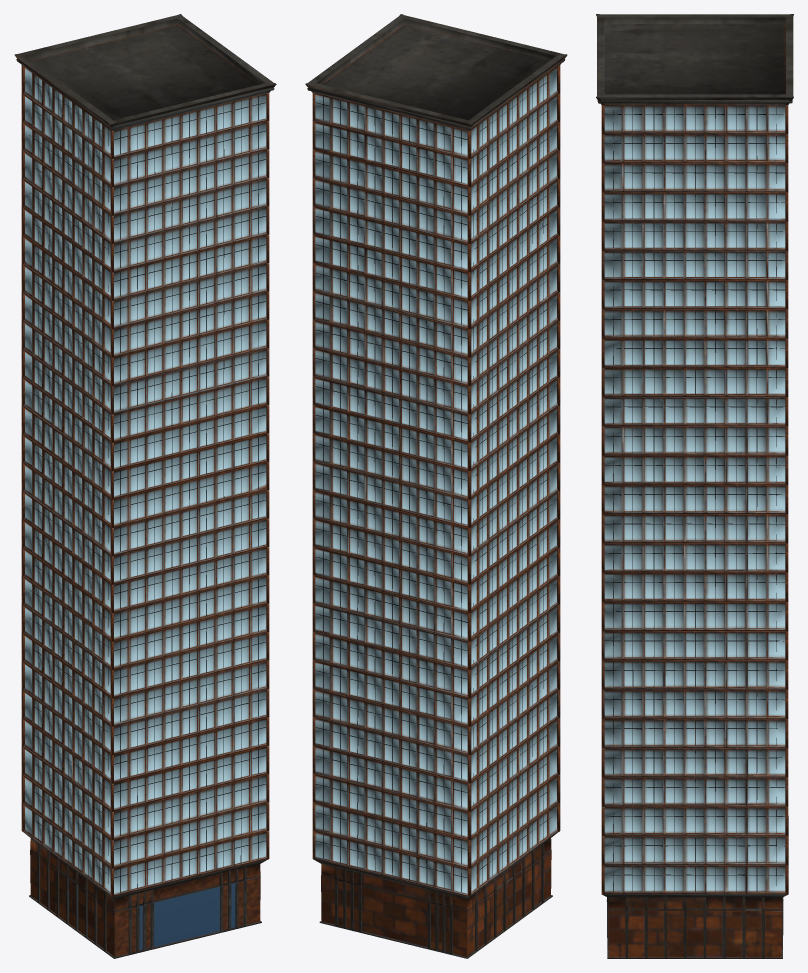
3 views of the same model, side by side, from view 1: azimuth 30°, elevation 25°; view 2: azimuth 150°, elevation 25°; view 3: azimuth 270°, elevation 25° (orthographic). The views are drawn at different scales.
Parts seen in each view (by area): view 1: Skyscraper-02-BAKED.001; view 2: Skyscraper-02-BAKED.001; view 3: Skyscraper-02-BAKED.001.
Part boxes in pixels (<box>): Skyscraper-02-BAKED.001: <box>14,14,276,958</box>; Skyscraper-02-BAKED.001: <box>305,14,567,958</box>; Skyscraper-02-BAKED.001: <box>596,14,793,958</box>.
Size of the model in its own units: 21.47 by 103 by 21.41.
Materials: 1 (1 with a texture image).
